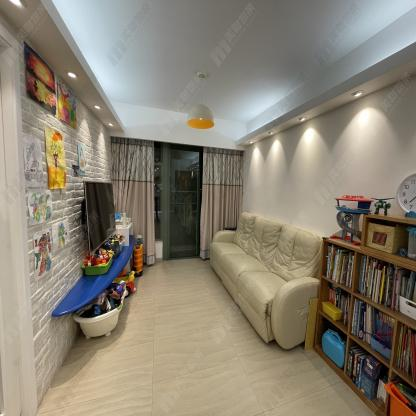Cupboard: (313, 235, 416, 416)
Sofa: (210, 211, 321, 350)
TV: (83, 181, 116, 256)
